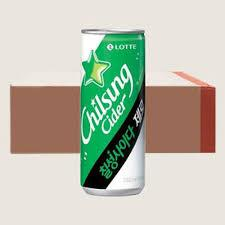chilsungcider_zero: (76, 23, 148, 200)
